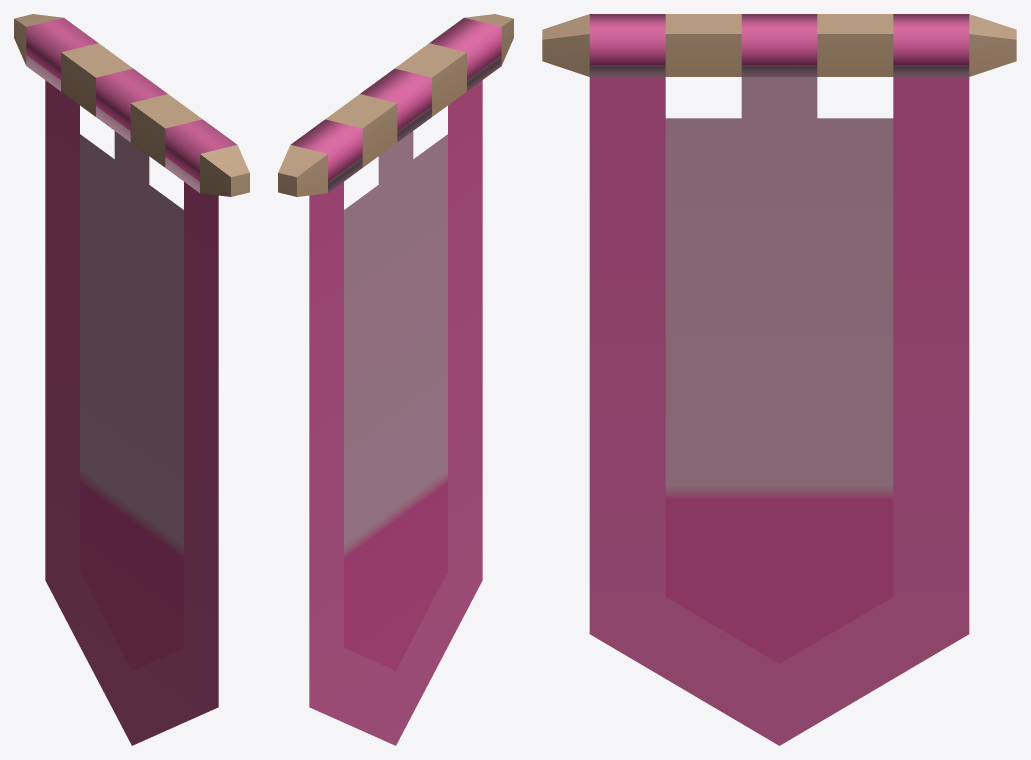
Rendered from banner.obj.
3 views of the same model, side by side, from view 1: azimuth 30°, elevation 25°; view 2: azimuth 150°, elevation 25°; view 3: azimuth 270°, elevation 25° (orthographic). The views are drawn at different scales.
Visible parts, largest first — view 1: banner-red; view 2: banner-red; view 3: banner-red.
Boxes of the visible parts, box(x1,y1,x2,y2) form: banner-red: box(14, 14, 249, 745); banner-red: box(278, 14, 513, 745); banner-red: box(542, 14, 1016, 745).
Size of the model in its own units: 0.3535 by 5.93 by 3.53.
Materials: 1 (1 with a texture image).
